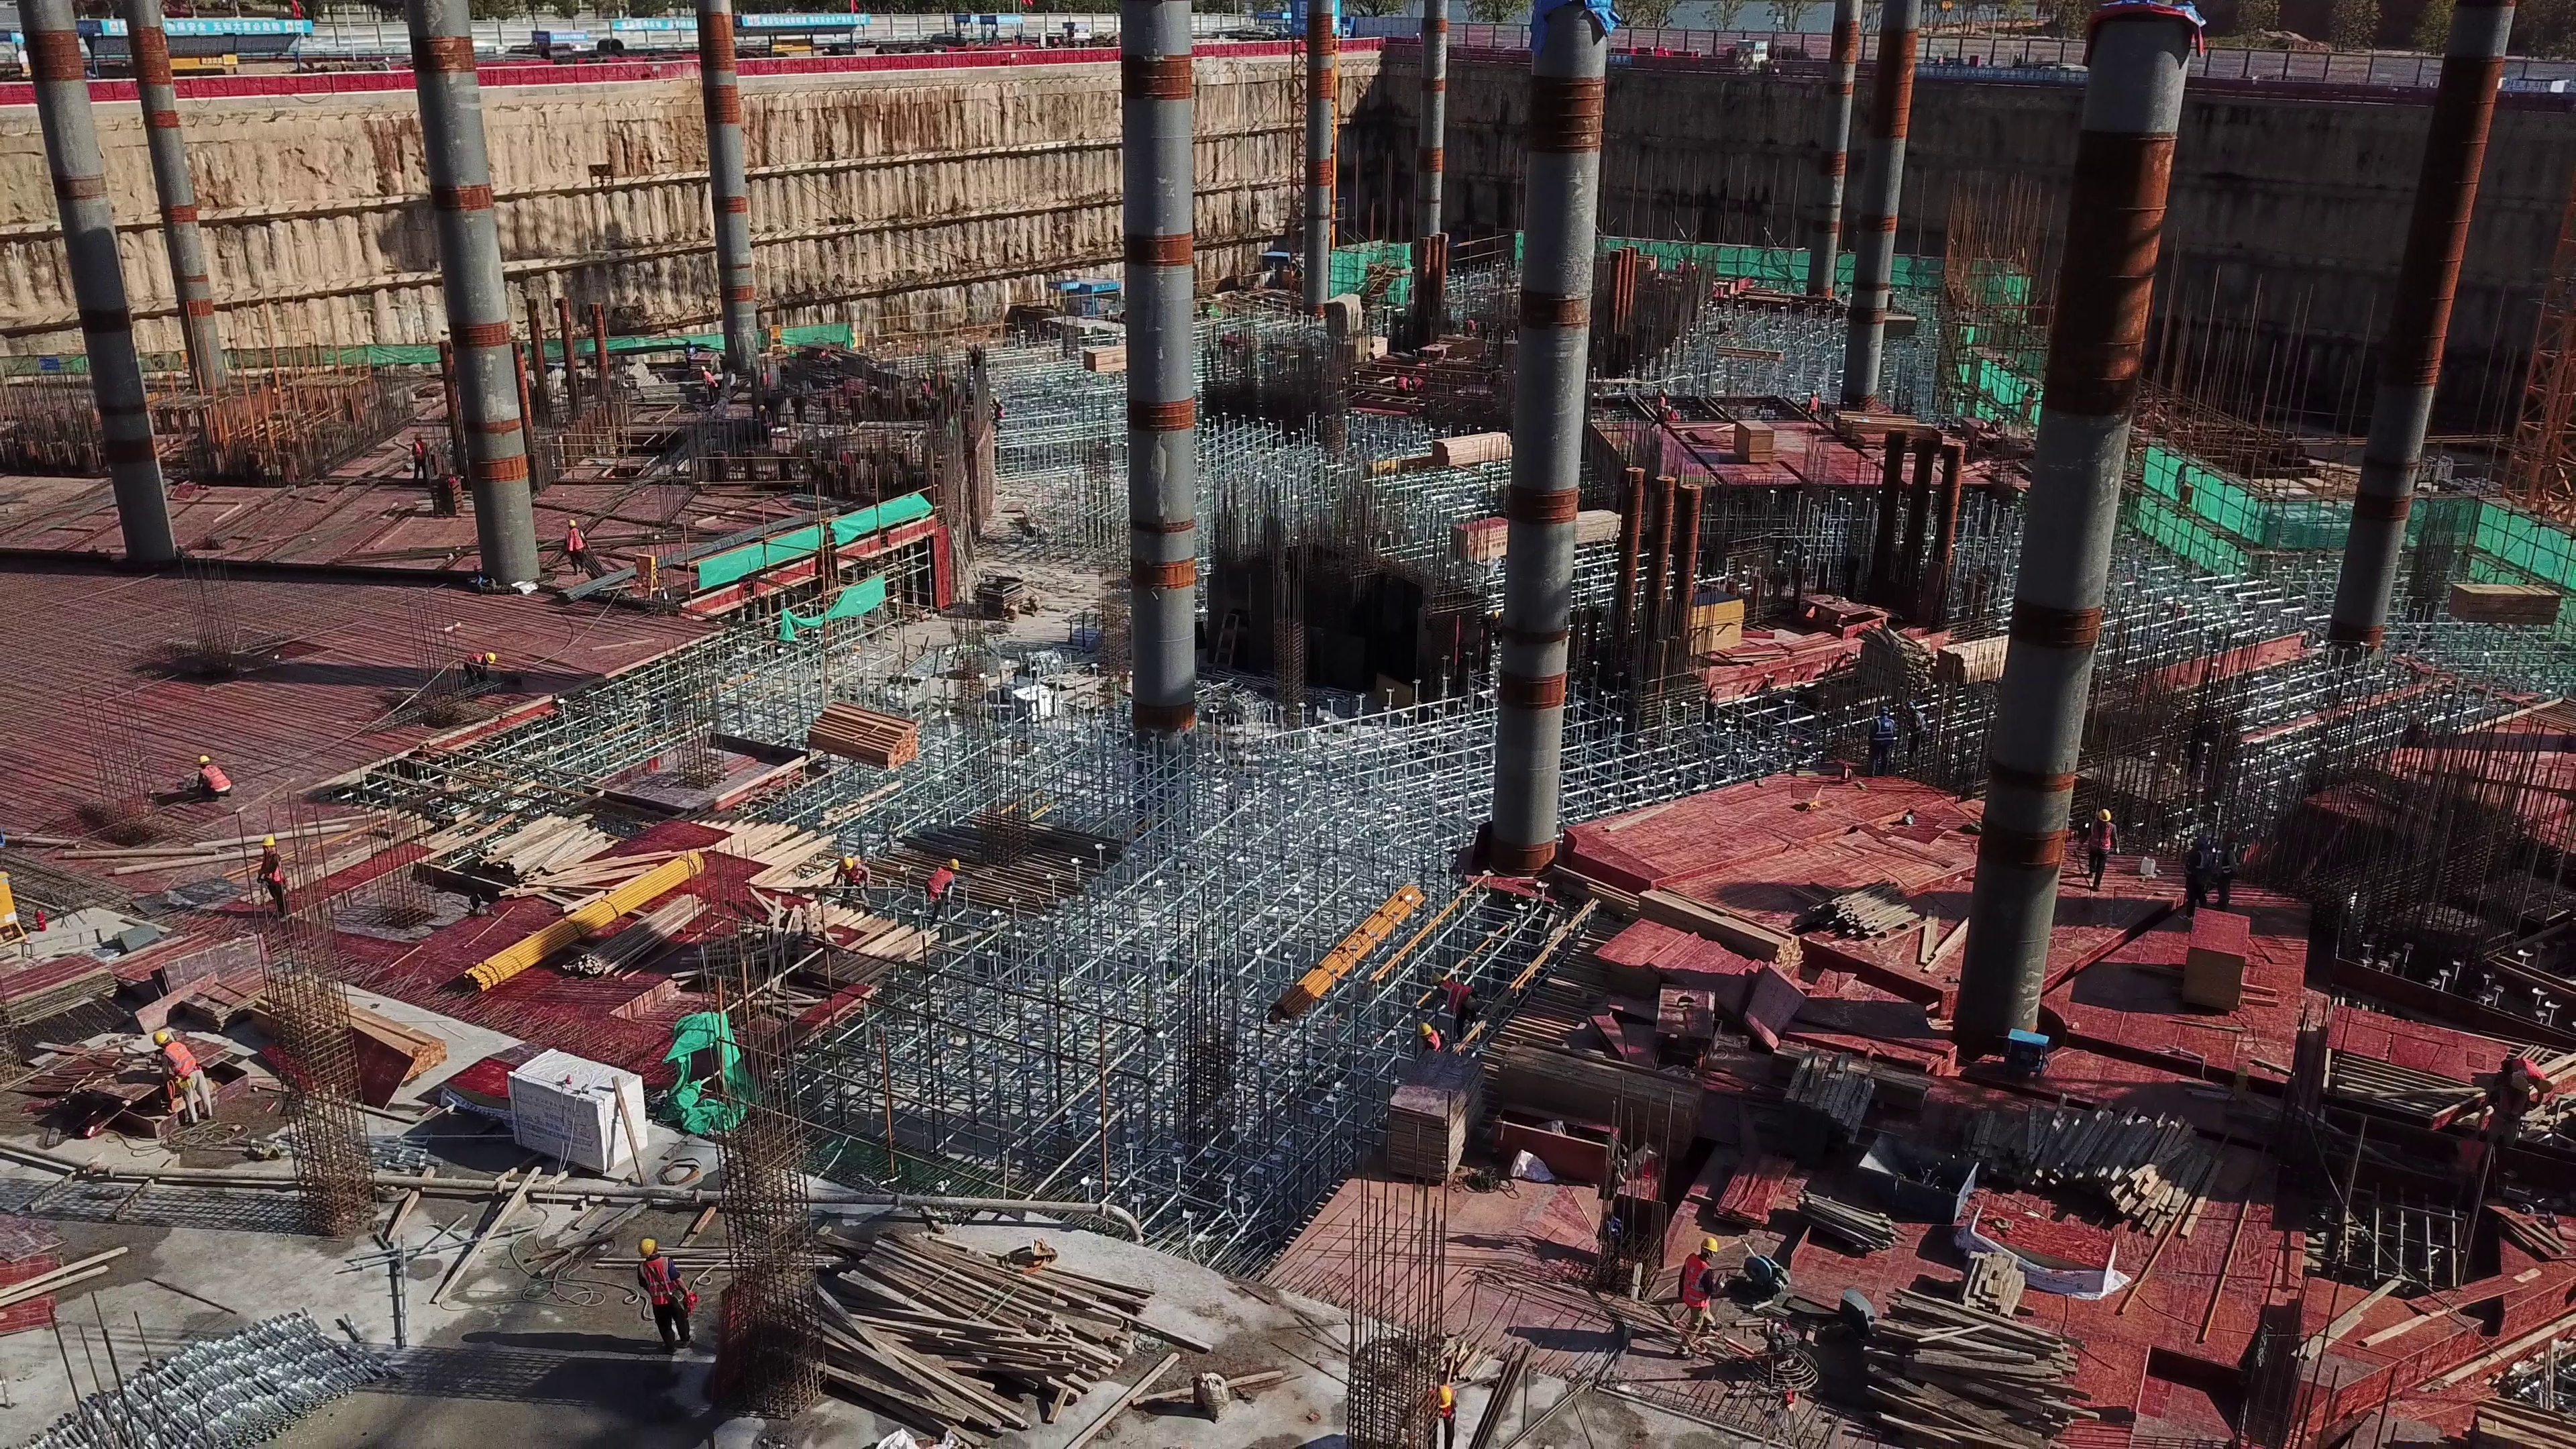helmet: (1434, 1384, 1456, 1409), (635, 1238, 655, 1258), (1698, 1235, 1719, 1252), (1411, 1022, 1432, 1039), (835, 856, 852, 871), (148, 1032, 170, 1046), (948, 857, 963, 874), (2097, 808, 2111, 824), (260, 833, 277, 843), (197, 754, 211, 767), (566, 519, 576, 531)
person: (632, 1238, 698, 1353), (152, 1036, 221, 1137), (2479, 1053, 2536, 1165), (1676, 1243, 1721, 1362), (250, 837, 293, 922), (837, 855, 881, 917), (927, 858, 967, 926), (2084, 806, 2110, 892), (1866, 703, 1894, 775), (2180, 838, 2206, 914), (563, 520, 594, 576), (2218, 833, 2242, 908), (194, 751, 227, 805), (459, 649, 495, 683)
vest: (635, 1258, 679, 1303), (1678, 1256, 1714, 1313), (162, 1044, 198, 1081), (924, 865, 951, 898), (2084, 823, 2110, 856), (1443, 982, 1471, 1009), (203, 768, 227, 792), (1874, 718, 1898, 743), (566, 531, 588, 551)
